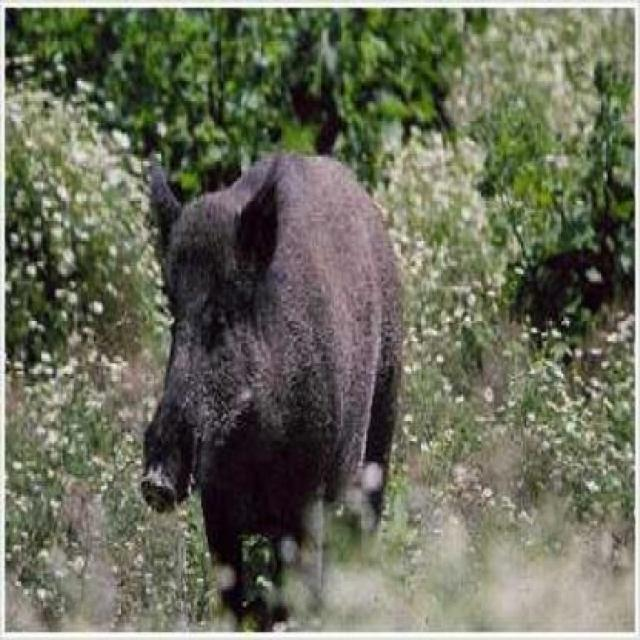pig: (78, 108, 411, 639)
